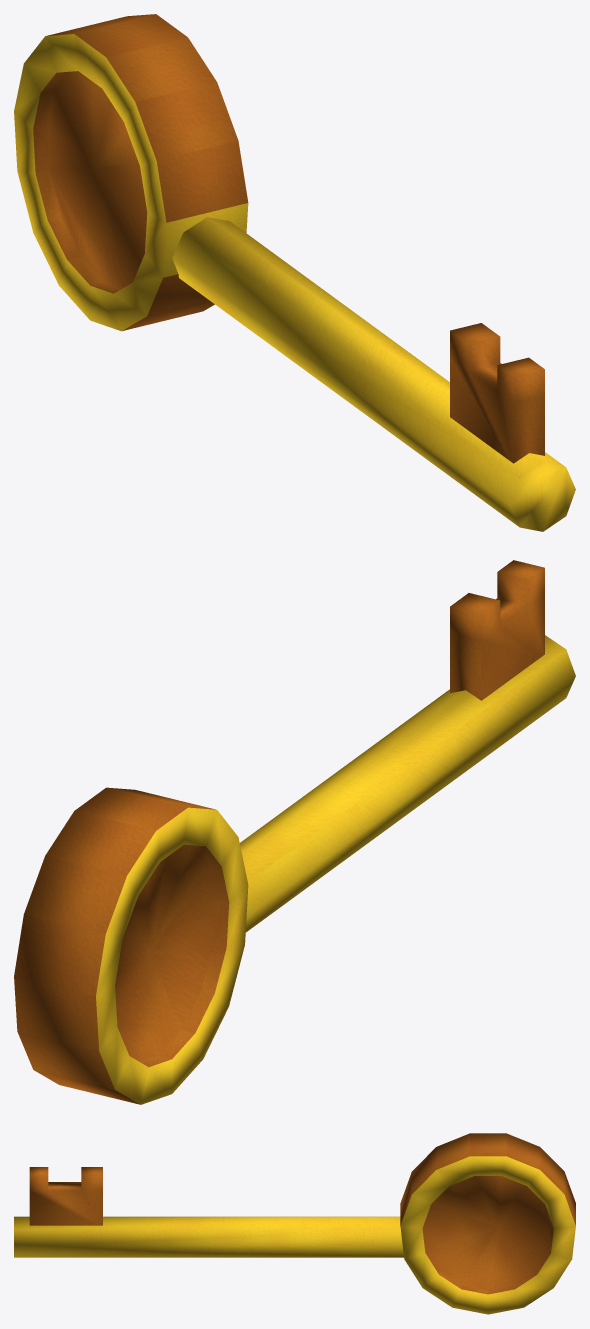
File: key 02.fbx
The picture shows the model from 3 angles, top to bottom: view 1: azimuth 30°, elevation 25°; view 2: azimuth 150°, elevation 25°; view 3: azimuth 270°, elevation 25°; orthographic projection. The views are drawn at different scales.
Visible parts, largest first — view 1: key 002; view 2: key 002; view 3: key 002.
Part boxes in pixels (bbox=[...]): key 002: bbox=[14, 14, 575, 531]; key 002: bbox=[14, 560, 575, 1104]; key 002: bbox=[14, 1133, 575, 1314].
Size of the model in its own units: 77.89 by 250 by 804.
